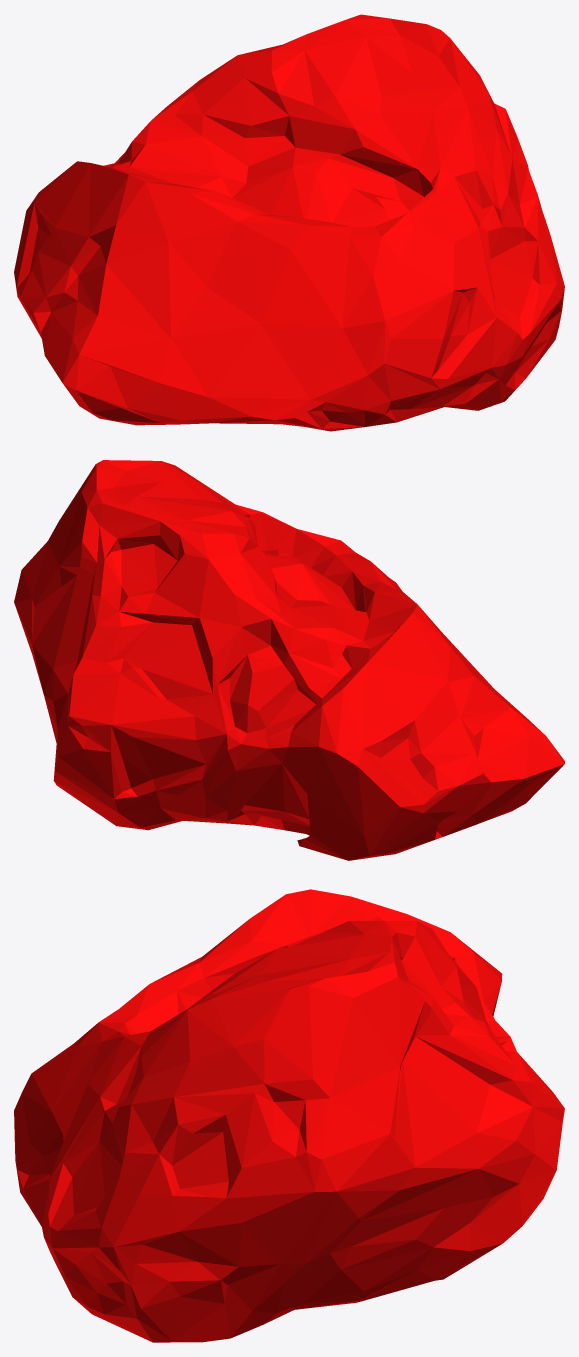
Rendered from meteor_red_form_core_04.glb.
3 views of the same model, one above another, from view 1: azimuth 30°, elevation 25°; view 2: azimuth 150°, elevation 25°; view 3: azimuth 270°, elevation 25° (orthographic). The views are drawn at different scales.
Parts seen in each view (by area): view 1: Mesh1.0; view 2: Mesh1.0; view 3: Mesh1.0.
Part boxes in pixels (bbox=[...]): Mesh1.0: bbox=[14, 14, 564, 431]; Mesh1.0: bbox=[14, 460, 564, 860]; Mesh1.0: bbox=[14, 889, 564, 1342].
Size of the model in its own units: 1.91 by 1.13 by 1.59.
